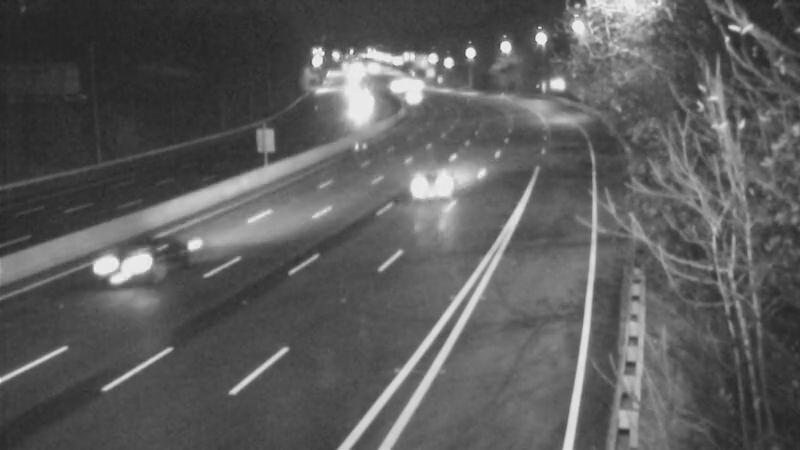vehicle: (387, 143, 467, 223), (87, 221, 167, 301), (388, 69, 438, 119), (332, 79, 382, 129)
